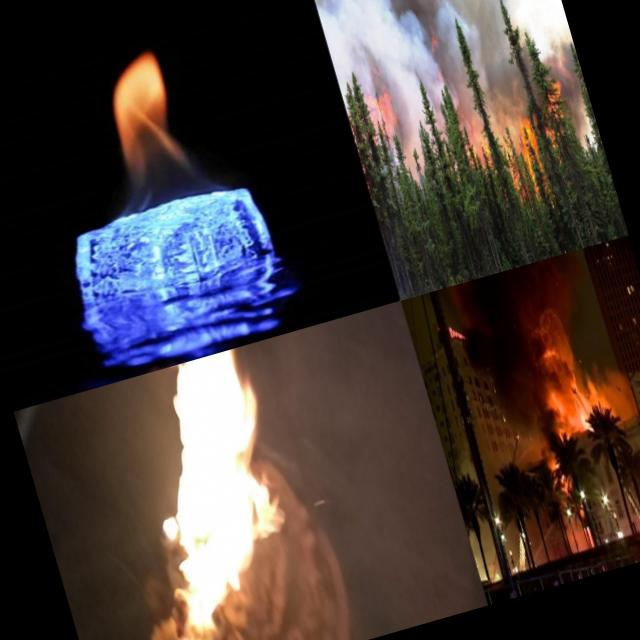fire: (80, 339, 344, 640), (72, 35, 230, 232), (494, 115, 554, 202), (356, 66, 404, 146), (455, 106, 496, 172), (540, 70, 572, 127), (566, 380, 595, 434), (549, 394, 579, 434)
smoke: (311, 0, 519, 79), (384, 46, 478, 127), (516, 302, 584, 398), (470, 32, 532, 126), (547, 35, 598, 136), (578, 355, 638, 428)
